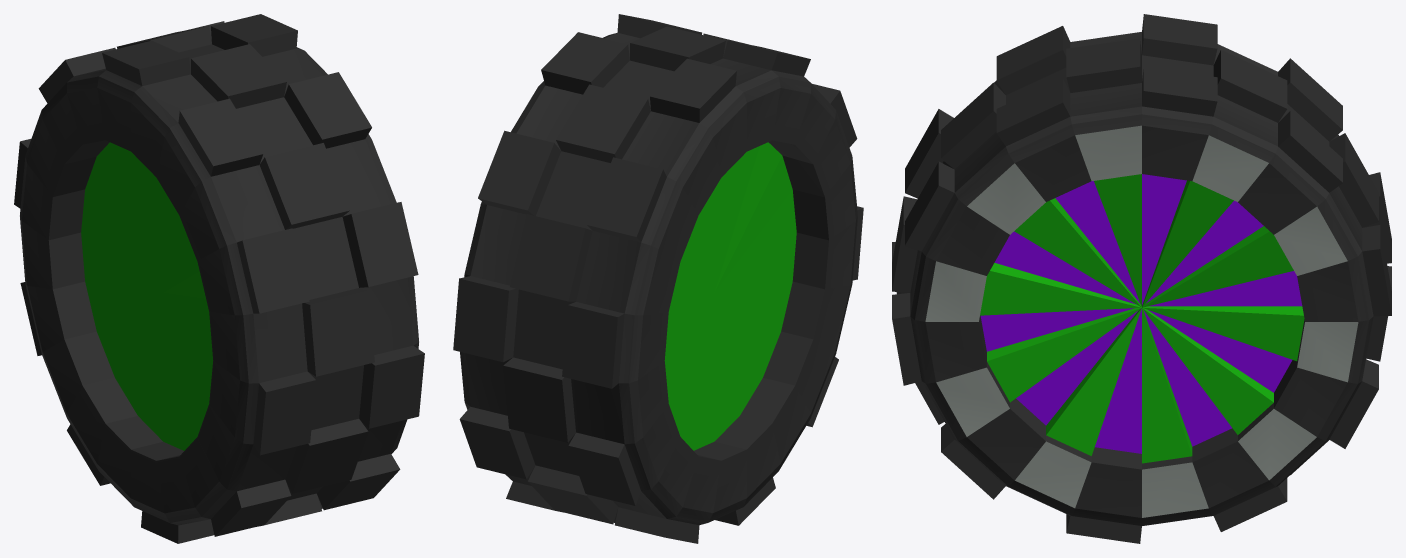
File: tocak final.fbx
The picture shows the model from 3 angles, left to right: view 1: azimuth 30°, elevation 25°; view 2: azimuth 150°, elevation 25°; view 3: azimuth 270°, elevation 25°; orthographic projection.
Parts seen in each view (by area): view 1: Wheel.006; view 2: Wheel.006; view 3: Wheel.006.
Part boxes in pixels (x1=…): Wheel.006: x1=14, y1=14, x2=424, y2=543; Wheel.006: x1=453, y1=14, x2=863, y2=543; Wheel.006: x1=892, y1=14, x2=1391, y2=543.
Bounding box in the file's own units: 48.66 × 120 × 120.
